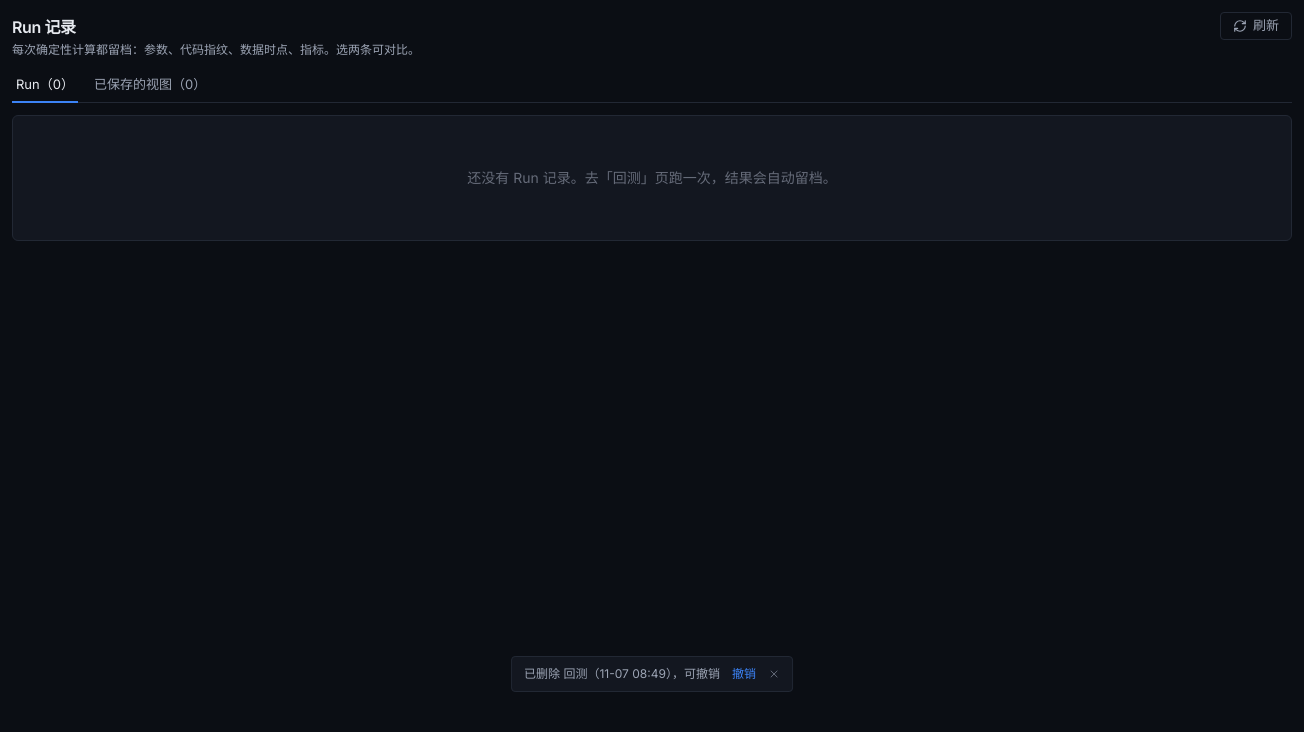
it: Run 软删 + 撤销 › 点撤销：恢复被删的 Run，行回到列表
Earlier steps of the test are not shown.
What coordinates should you click on to do the following:
click the button "撤销"
I would click on:
 (744, 674)
Its box is [732,665,756,683].
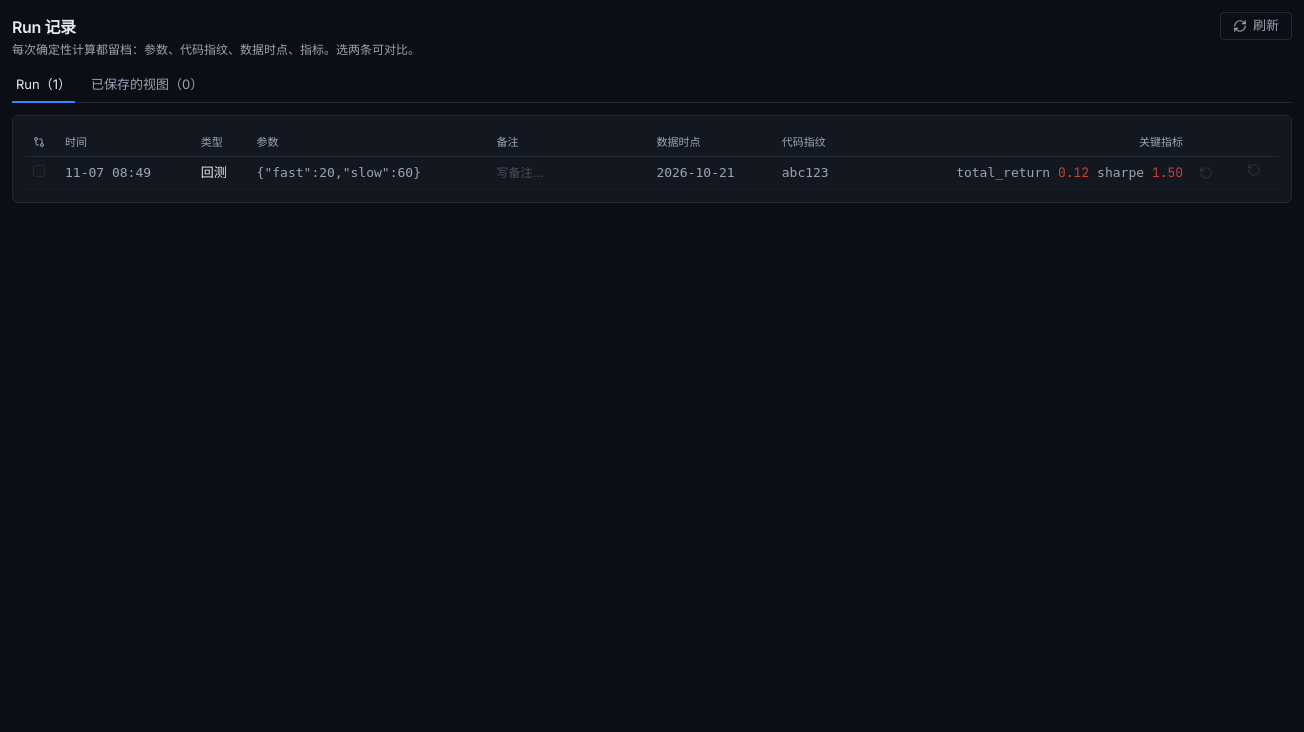
Expected: the message "已删除 回测（11-07 08:49），可撤销 撤销" is gone
